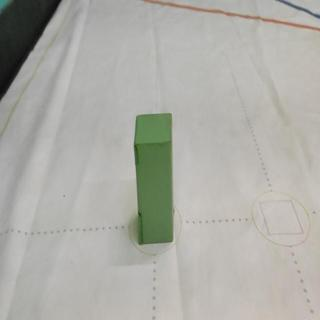greenbox: (134, 110, 177, 245)
